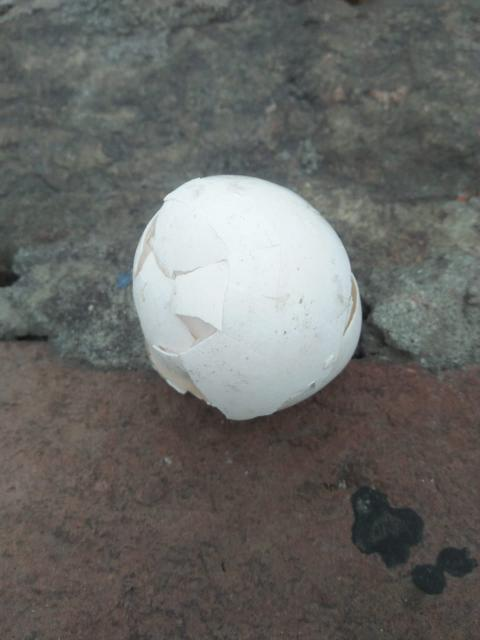Roto: (130, 172, 363, 422)
